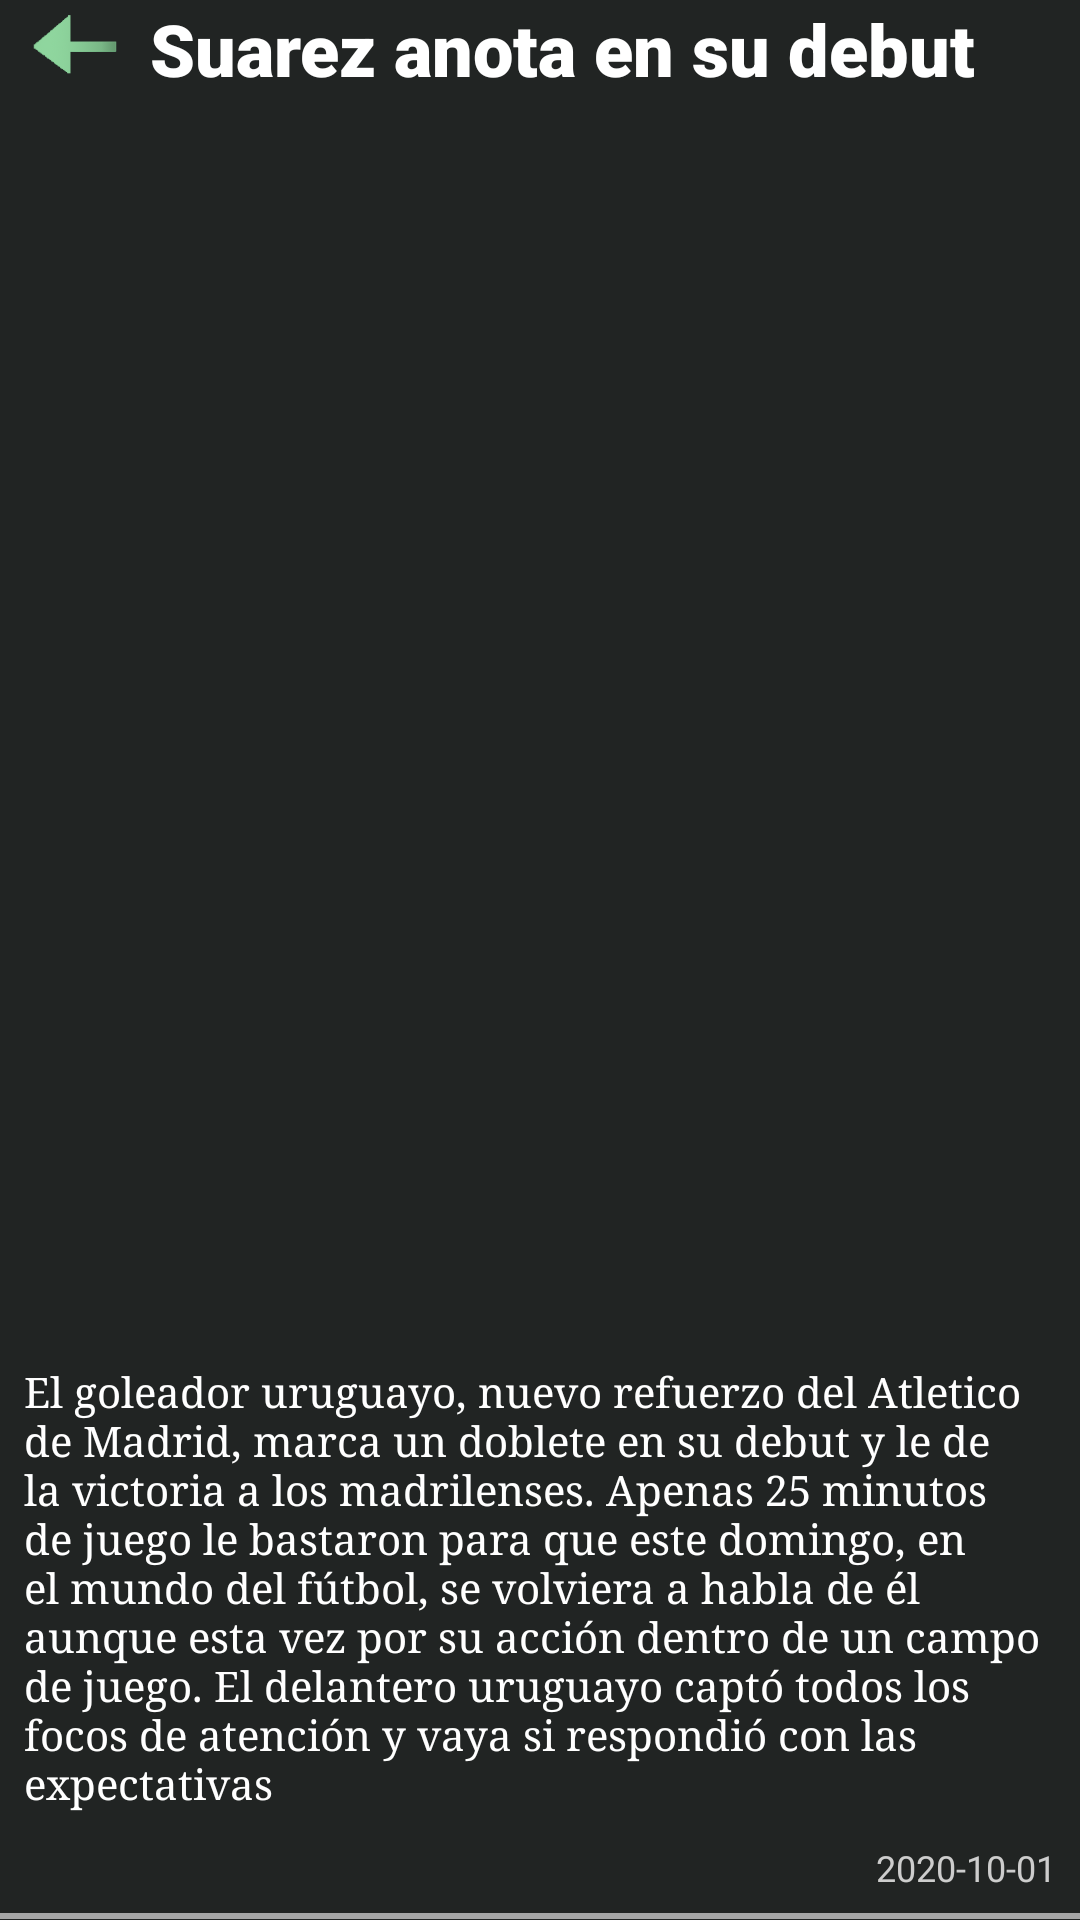

Icon bounding boxes for this 1080px×1920px phone screenshot, format [left=x1, top=y1, right=x2, bottom=y2]:
flechita volver: [left=33, top=15, right=117, bottom=74]
